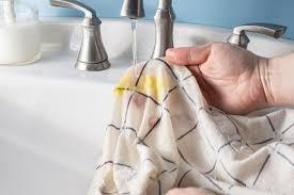mustard: (148, 74, 166, 98), (122, 75, 140, 93)
